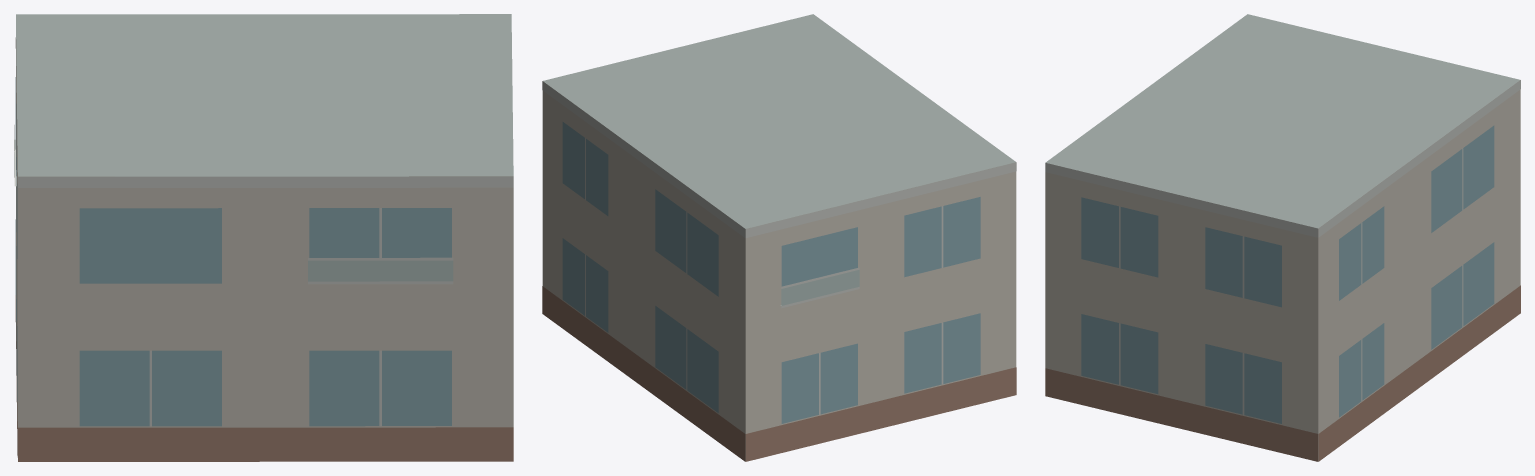
The model's file is survey-upis-32989315.glb.
3 renders of one model, left to right at view 1: azimuth 30°, elevation 25°; view 2: azimuth 150°, elevation 25°; view 3: azimuth 270°, elevation 25°, orthographic. The views are drawn at different scales.
Visible parts, largest first — view 1: survey-upis-32989315.tmp; view 2: survey-upis-32989315.tmp; view 3: survey-upis-32989315.tmp.
Part boxes in pixels (bbox=[...]): survey-upis-32989315.tmp: bbox=[14, 14, 513, 461]; survey-upis-32989315.tmp: bbox=[542, 14, 1016, 461]; survey-upis-32989315.tmp: bbox=[1045, 14, 1520, 461].
Bounding box in the file's own units: 12.03 × 6.1 × 11.27.
